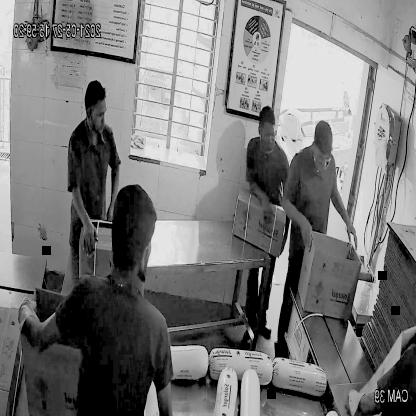no_goggles: (82, 104, 112, 122)
